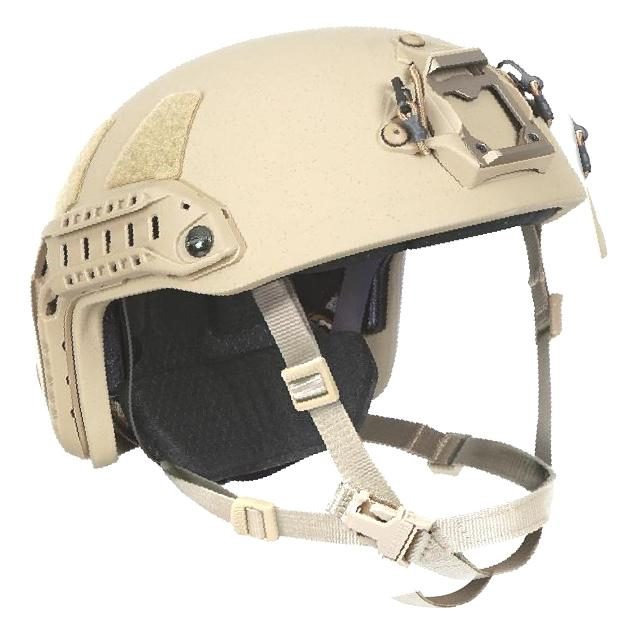helmet: (7, 1, 636, 632)
